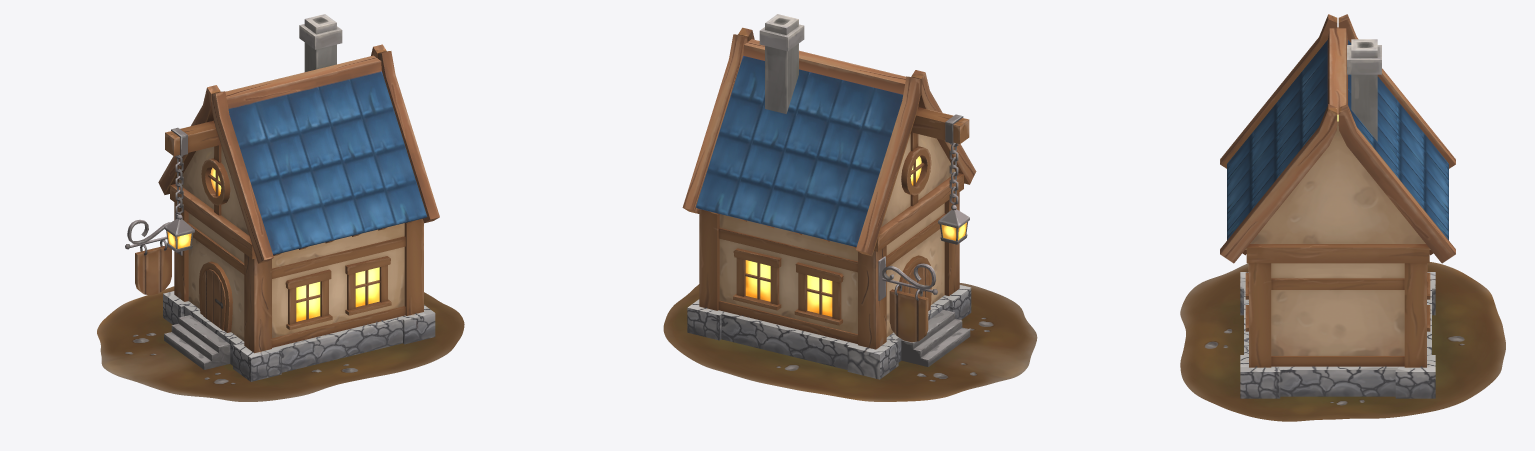
Rendered from low_poly_house.glb.
3 renders of one model, left to right at view 1: azimuth 30°, elevation 25°; view 2: azimuth 150°, elevation 25°; view 3: azimuth 270°, elevation 25°, orthographic. The views are drawn at different scales.
Visible parts, largest first — view 1: Object_3, Object_2; view 2: Object_3, Object_2; view 3: Object_3, Object_2.
Boxes of the visible parts, <box> form: Object_3: <box>125,14,439,381</box>; Object_2: <box>97,286,464,401</box>; Object_3: <box>682,14,976,379</box>; Object_2: <box>663,283,1037,401</box>; Object_3: <box>1220,14,1455,398</box>; Object_2: <box>1180,262,1505,421</box>.
Size of the model in its own units: 137 by 104 by 107.
2 materials, 2 textured.
